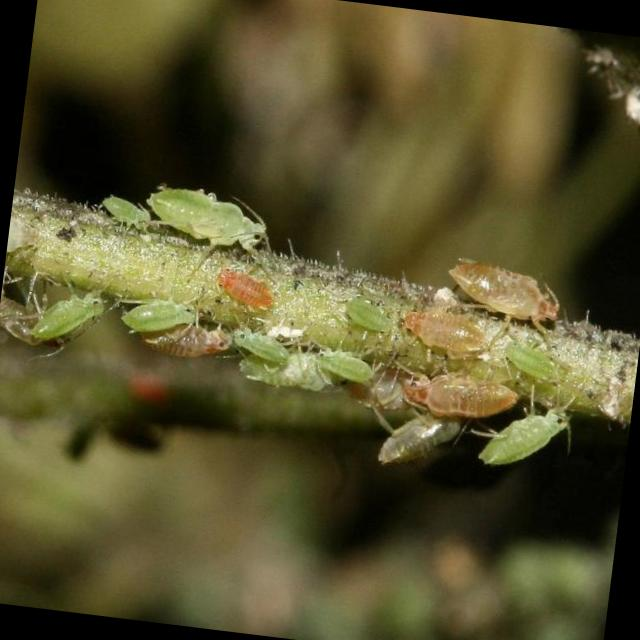aphid: (473, 387, 595, 487), (442, 238, 574, 328), (142, 182, 268, 252), (398, 364, 526, 428), (28, 288, 106, 346), (330, 286, 400, 342), (116, 294, 200, 338), (210, 266, 277, 314), (97, 193, 155, 230)
